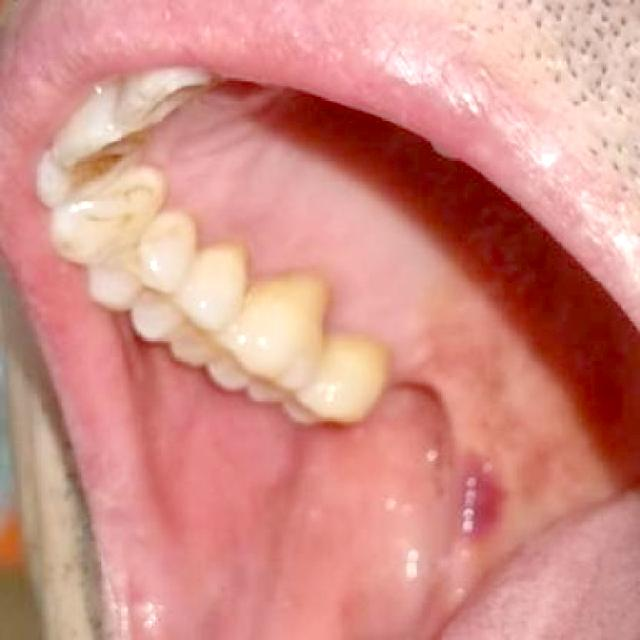Plaque: (170, 190, 370, 343), (72, 209, 136, 229)
